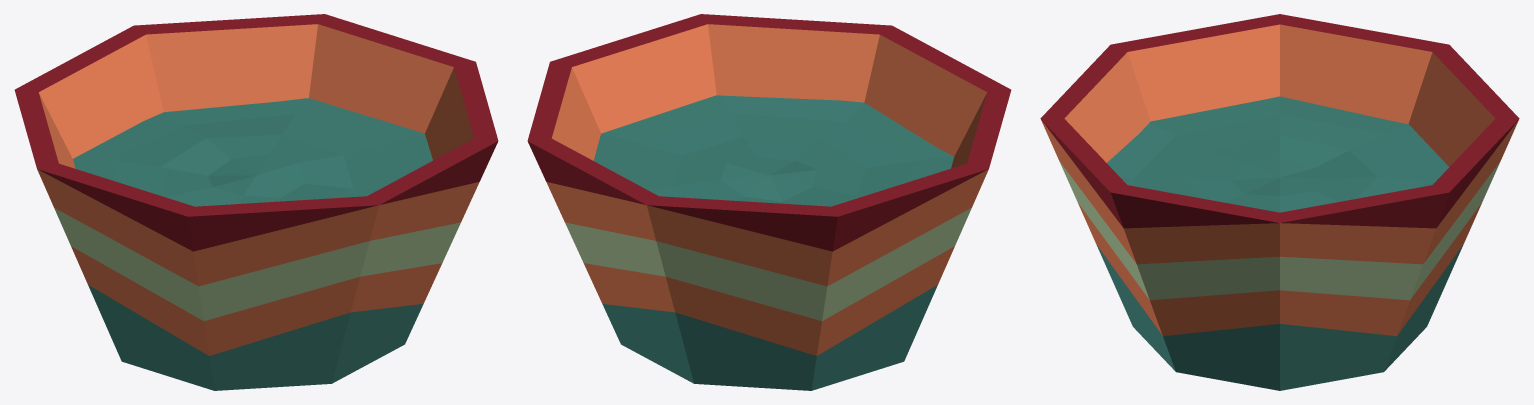
File: HuntsmanVase2.fbx
3 views of the same model, side by side, from view 1: azimuth 30°, elevation 25°; view 2: azimuth 150°, elevation 25°; view 3: azimuth 270°, elevation 25° (orthographic). The views are drawn at different scales.
Visible parts, largest first — view 1: Vase2Huntsman; view 2: Vase2Huntsman; view 3: Vase2Huntsman.
Boxes of the visible parts, x1,y1,x2,y2 form: Vase2Huntsman: (14, 14, 498, 390); Vase2Huntsman: (527, 14, 1011, 390); Vase2Huntsman: (1040, 14, 1519, 390).
Size of the model in its own units: 118 by 54.86 by 114.
